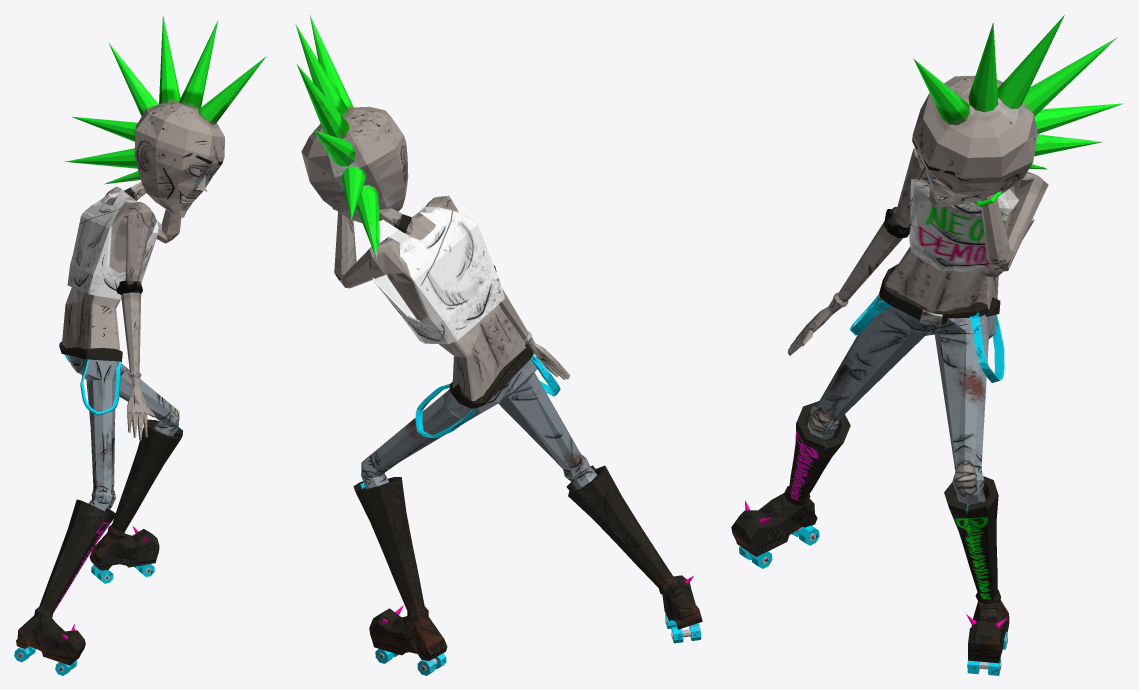
Rendered from punkAnimation_000004.obj.
3 views of the same model, side by side, from view 1: azimuth 30°, elevation 25°; view 2: azimuth 150°, elevation 25°; view 3: azimuth 270°, elevation 25° (orthographic). The views are drawn at different scales.
Visible parts, largest first — view 1: Cube.004_Cube.003; view 2: Cube.004_Cube.003; view 3: Cube.004_Cube.003.
Part boxes in pixels (x1,y1,x2,y2): Cube.004_Cube.003: (14, 15, 266, 675); Cube.004_Cube.003: (295, 14, 702, 675); Cube.004_Cube.003: (731, 15, 1123, 675).
Bounding box in the file's own units: 3.79 × 6.53 × 3.31.
